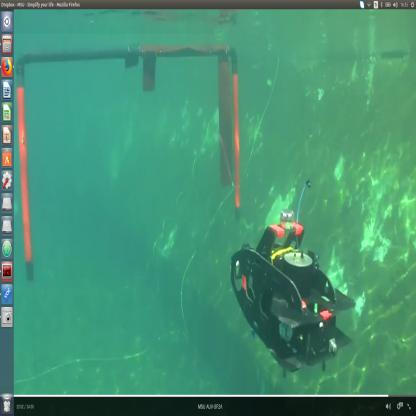gate: (19, 43, 241, 287)
